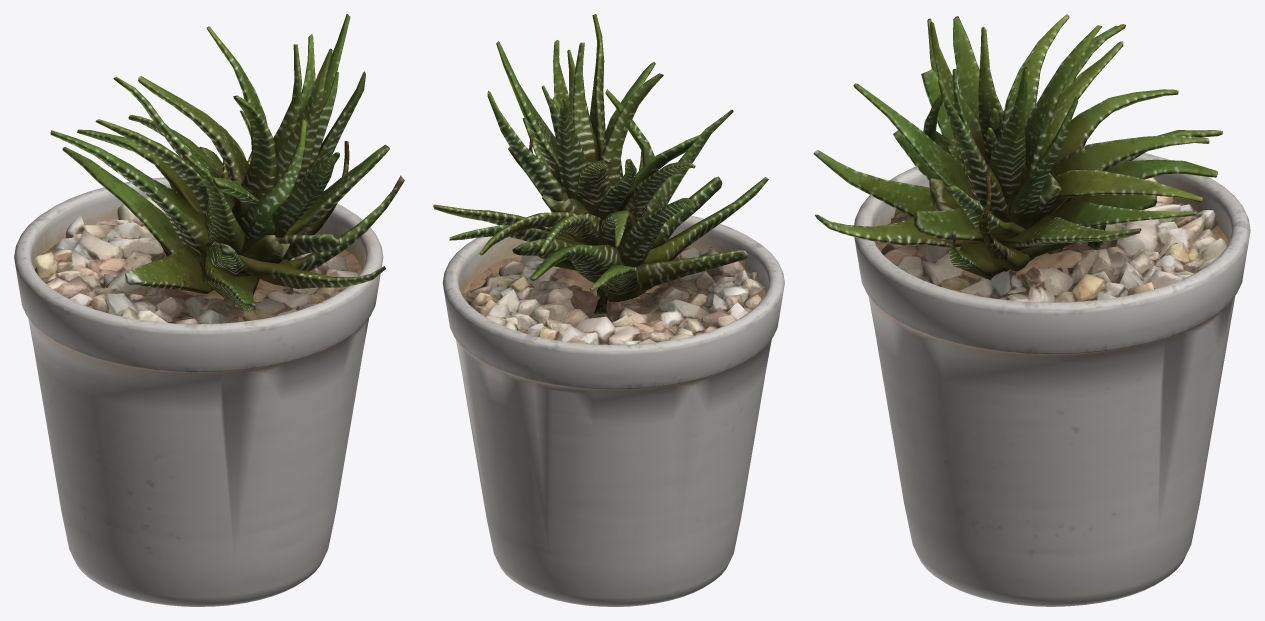
The model's file is ph-potted-plant-04.glb.
3 views of the same model, side by side, from view 1: azimuth 30°, elevation 25°; view 2: azimuth 150°, elevation 25°; view 3: azimuth 270°, elevation 25° (orthographic). The views are drawn at different scales.
Visible parts, largest first — view 1: potted_plant_04_ground; view 2: potted_plant_04_ground; view 3: potted_plant_04_ground.
Boxes of the visible parts, x1,y1,x2,y2 form: potted_plant_04_ground: (14,14,404,606); potted_plant_04_ground: (433,14,784,606); potted_plant_04_ground: (813,14,1250,606).
Bounding box in the file's own units: 0.1679 × 0.2675 × 0.1847.
Materials: 1 (1 with a texture image).
